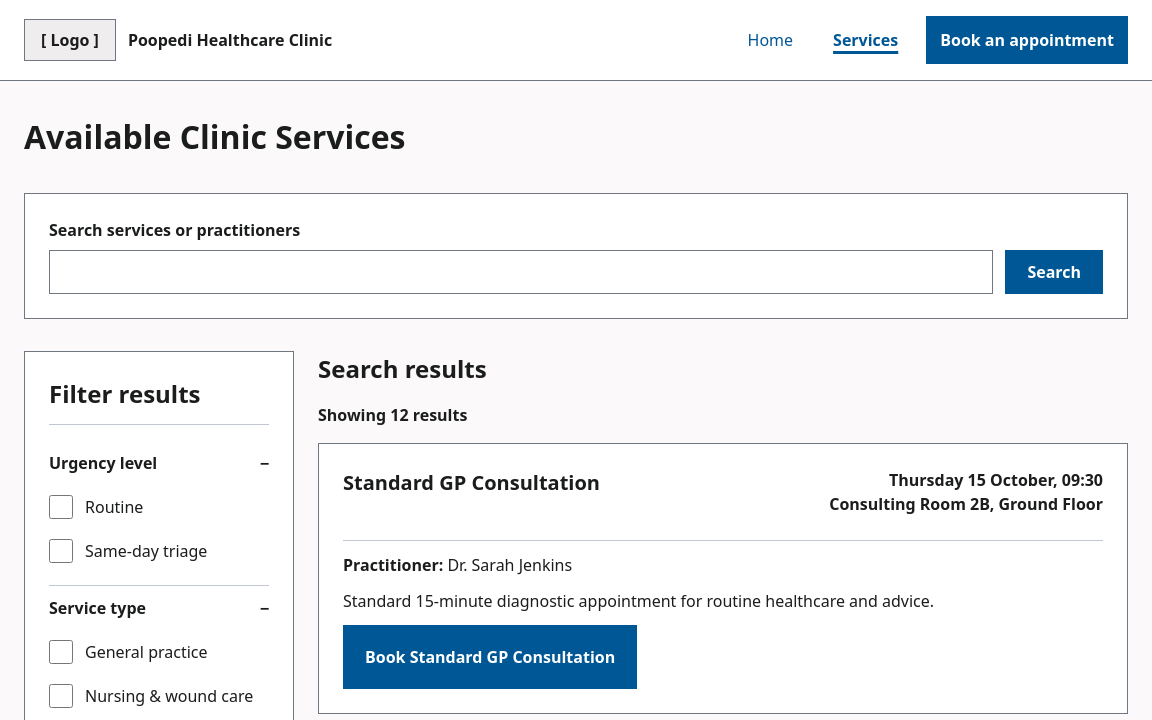
Test case: ServicesPage › collapses a filter group and keeps aria-expanded correct
This screenshot has width=1152, height=720.
Click the button "Service type −": (159, 608) [49, 586, 269, 630]
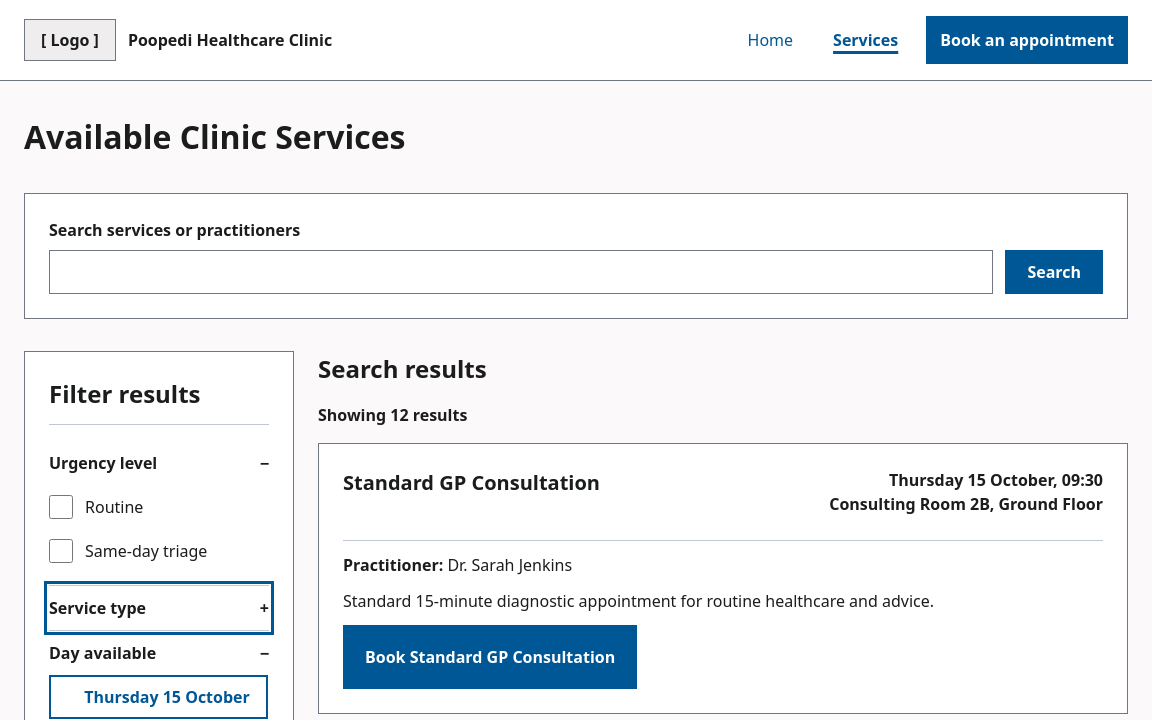
Check: the button "Service type +" is collapsed, box [49, 586, 269, 630]
